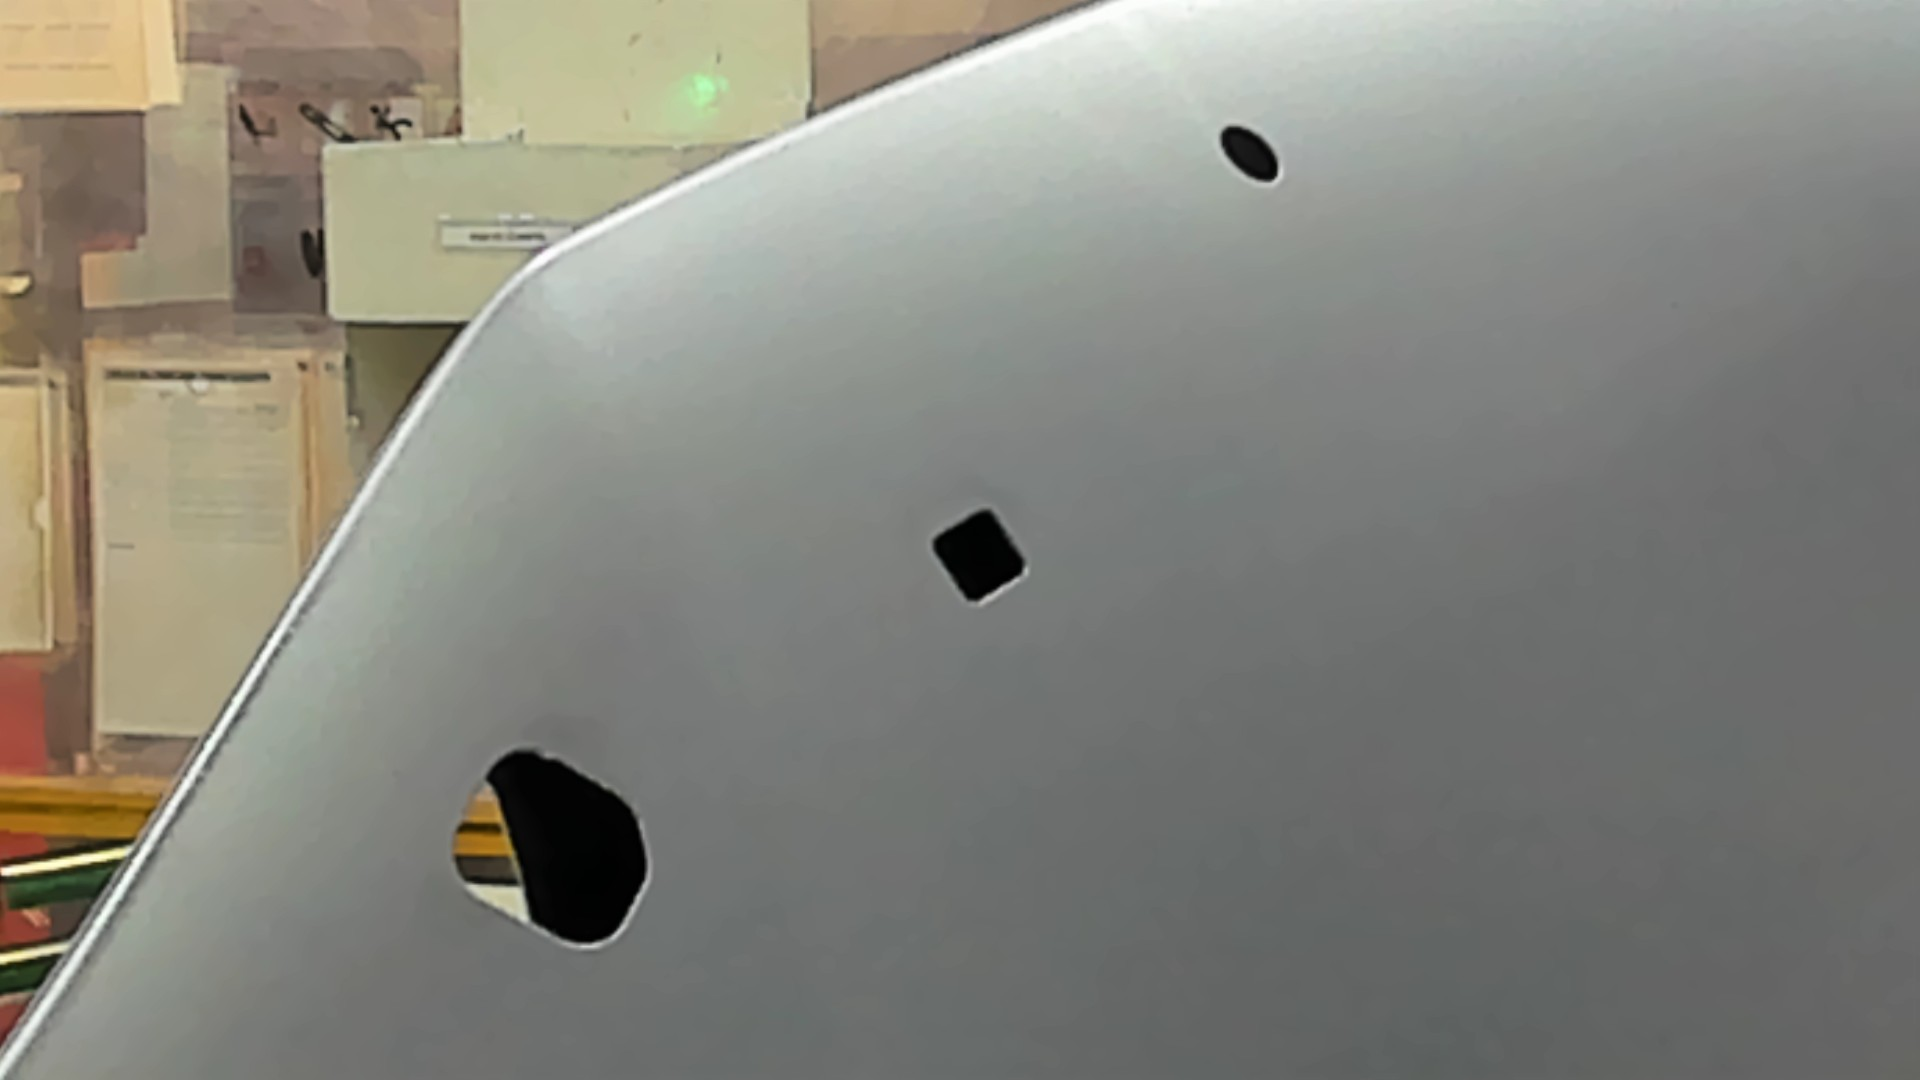chico: (1203, 103, 1302, 204)
grande: (429, 741, 657, 953)
mediano: (916, 495, 1056, 617)
